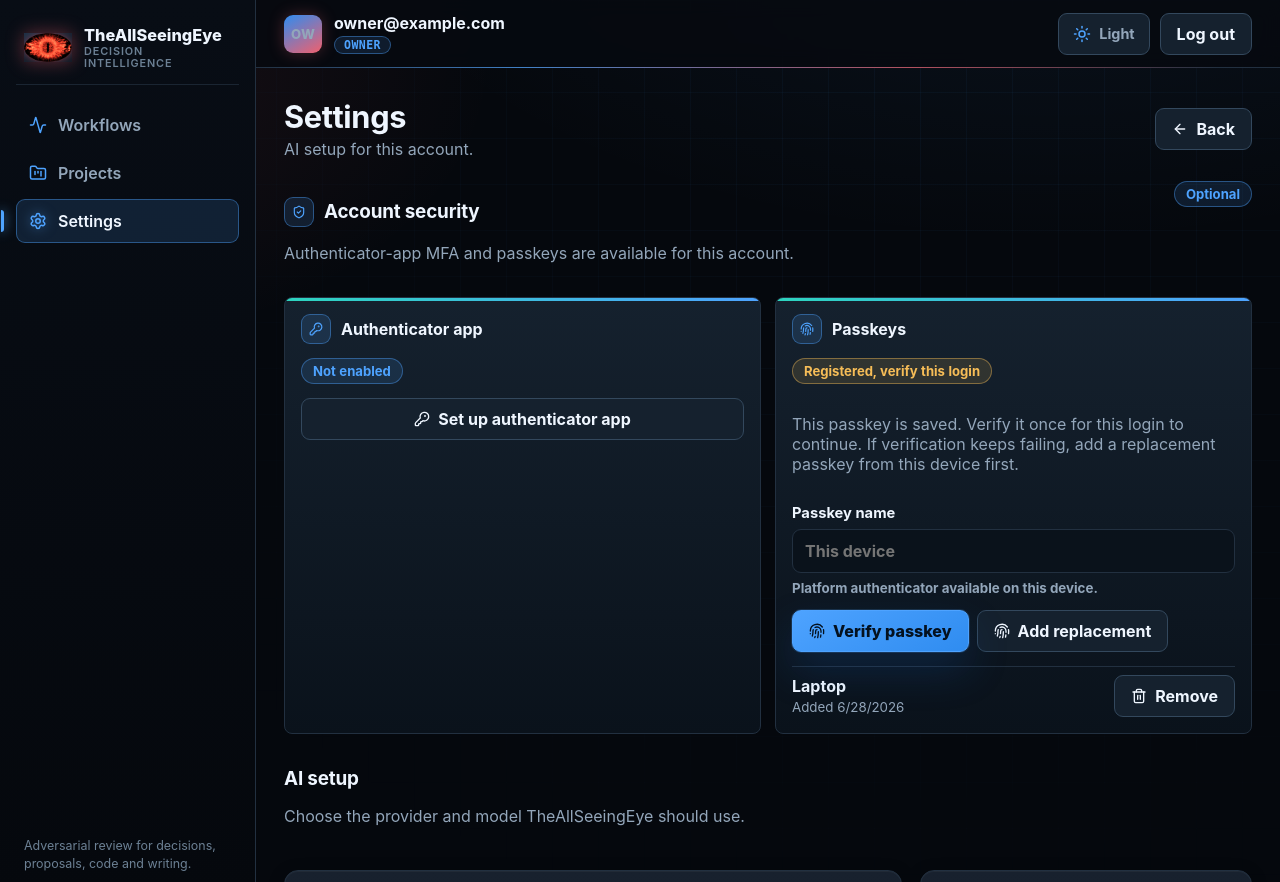
MFA passkeys › surfaces passkey removal failures
Click the button "Remove" at (1175, 696), box x1=1114 y1=675 x2=1235 y2=717
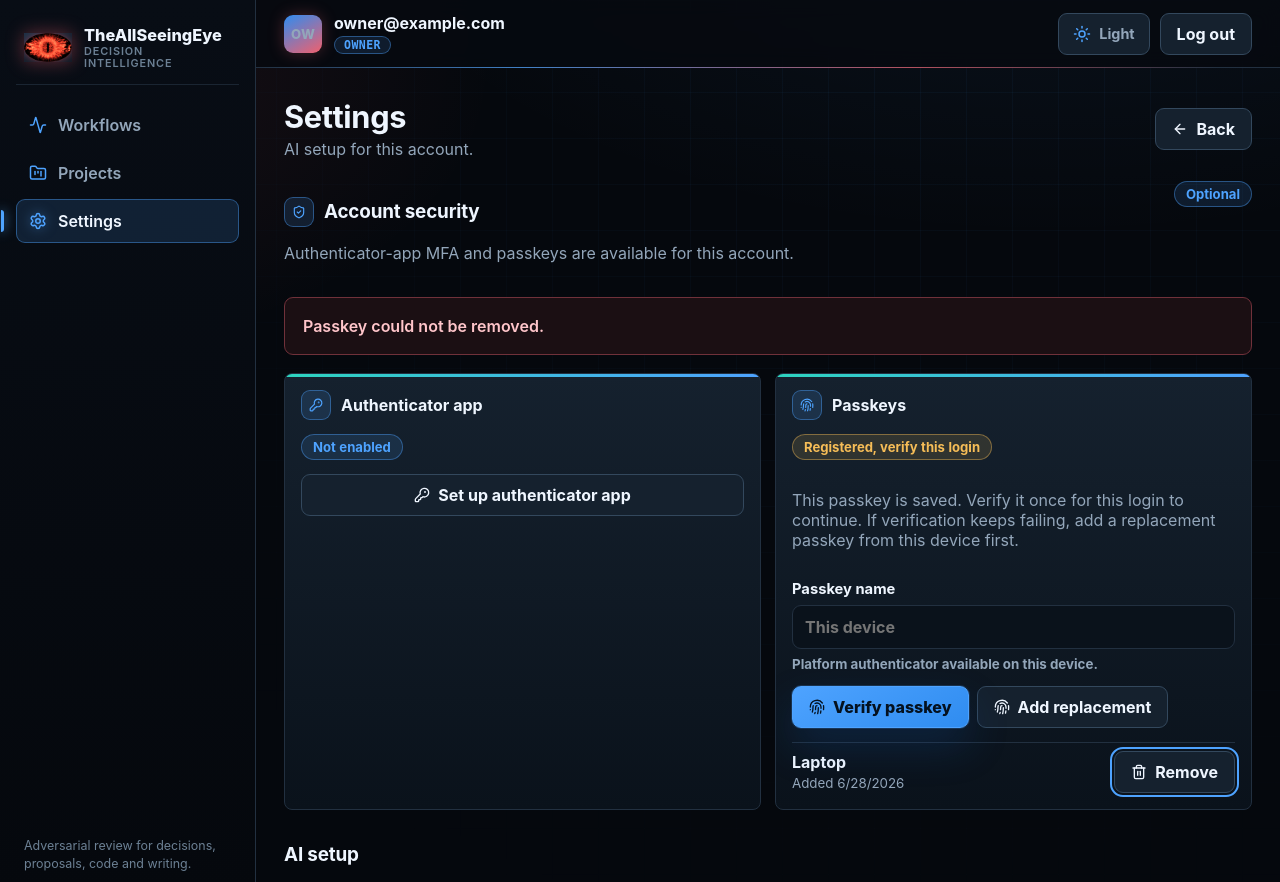
Check: the message reads "Passkey could not be removed.", box x1=303 y1=316 x2=544 y2=336
